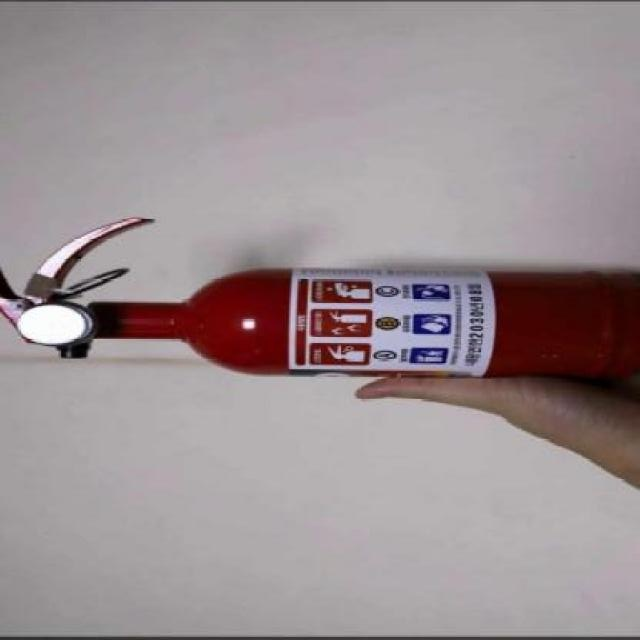fire extinguisher: (0, 217, 640, 380)
